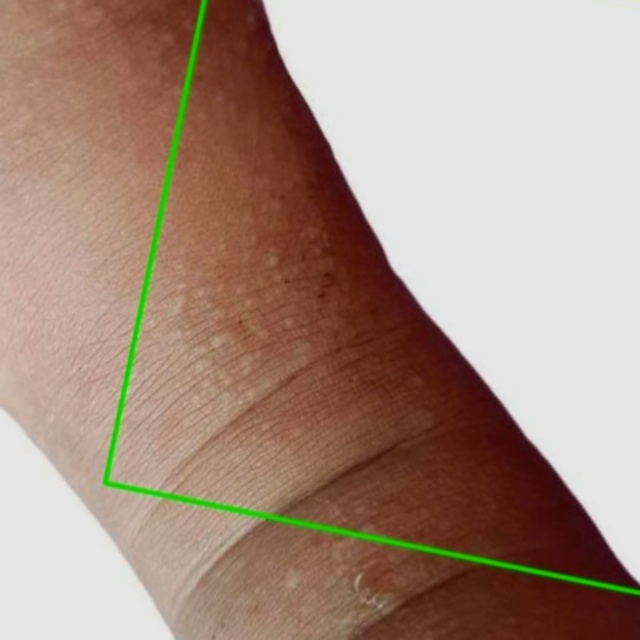Scabies: (104, 0, 639, 592)
